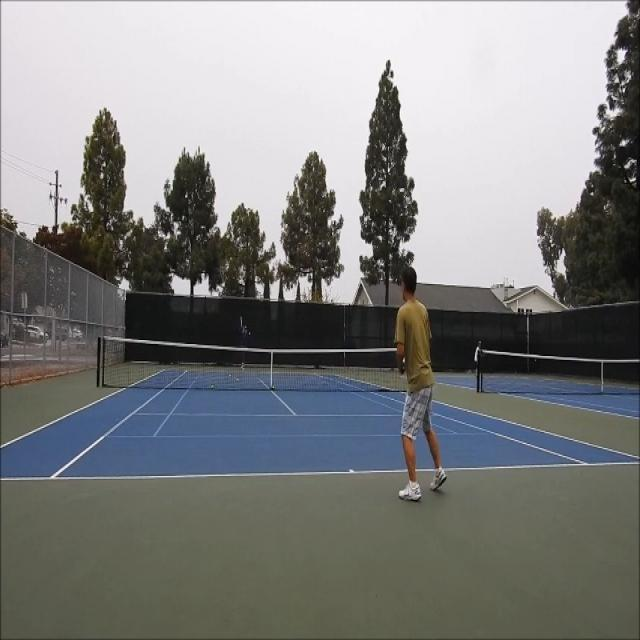court: (0, 370, 640, 480)
net: (93, 335, 424, 391)
player: (394, 266, 446, 501)
